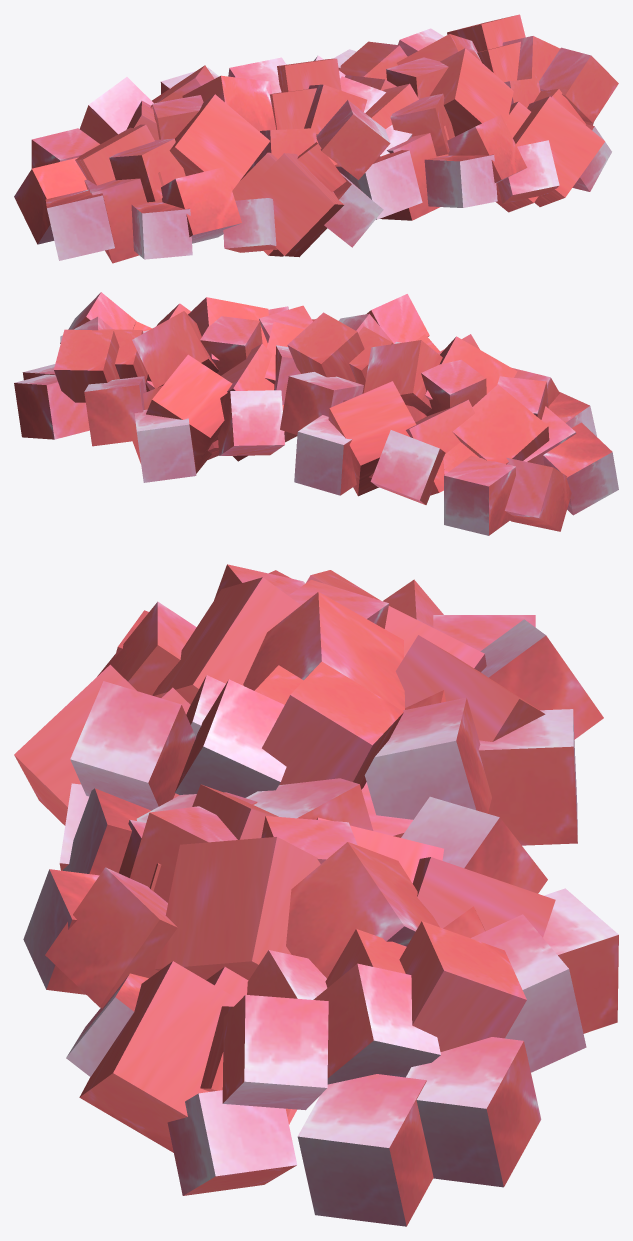
File: yingshi_3.fbx
3 views of the same model, one above another, from view 1: azimuth 30°, elevation 25°; view 2: azimuth 150°, elevation 25°; view 3: azimuth 270°, elevation 25° (orthographic). The views are drawn at different scales.
Parts seen in each view (by area): view 1: polySurface96; view 2: polySurface96; view 3: polySurface96.
Boxes of the visible parts, x1,y1,x2,y2 form: polySurface96: (14,14,618,263); polySurface96: (14,292,618,535); polySurface96: (14,564,618,1226).
Bounding box in the file's own units: 22.62 × 7.01 × 11.28.
